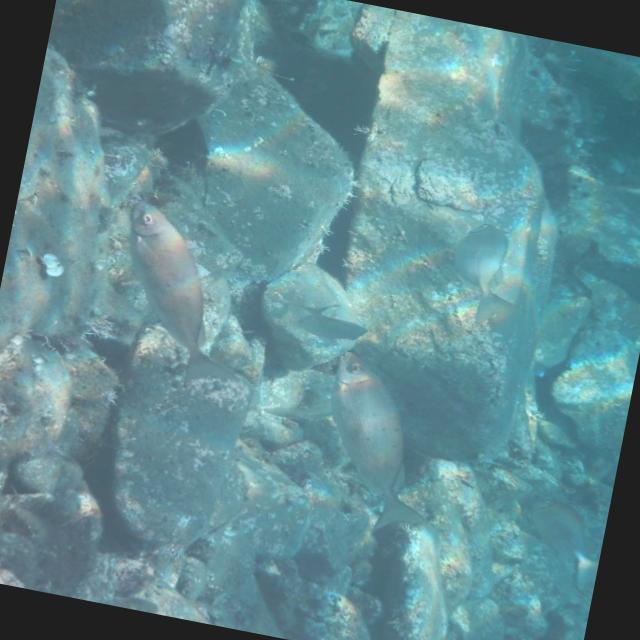Sokar Baligi: (85, 192, 294, 394), (288, 333, 476, 545)
